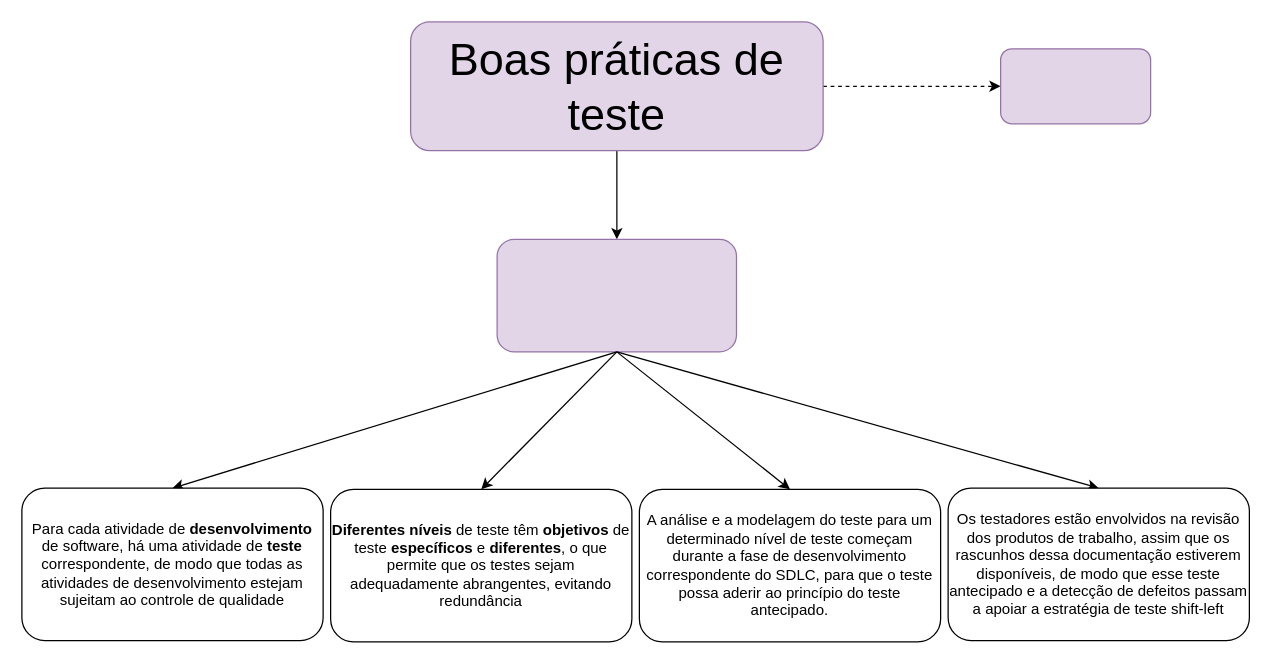
Some shapes in this 1271 by 664 pixel diagram are drawn without their labels. Each missing label, with the centre of its shape:
São independentes do SDLC escolhido e incluem: (616,295)
São três boas práticas citada no syllabus: (1075,86)
